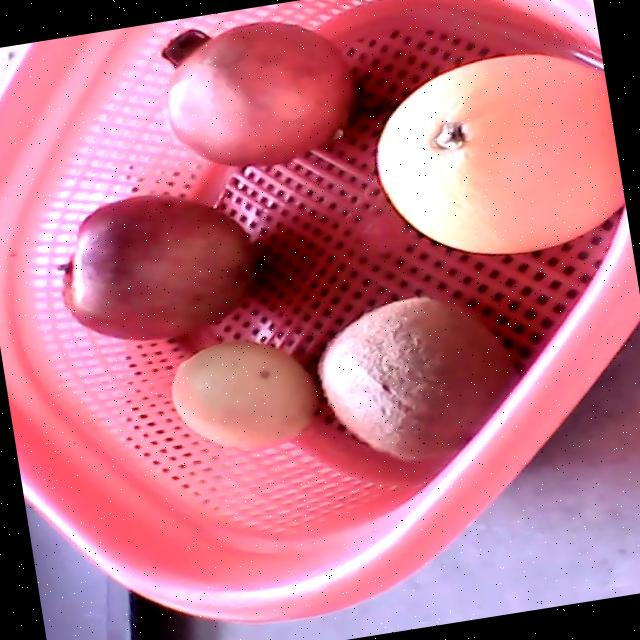apple: (56, 194, 257, 340)
kiwi: (320, 296, 516, 459)
lemon: (172, 339, 317, 449)
orange: (376, 53, 624, 255)
pomegranate: (162, 22, 354, 166)
